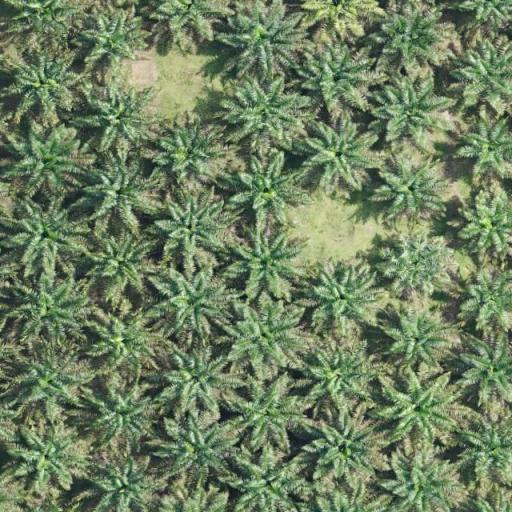Ganoderma: (320, 0, 358, 21)
